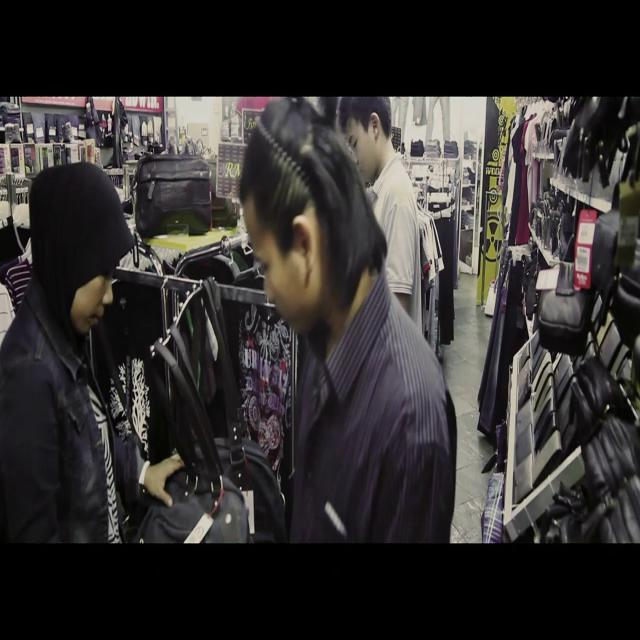normal: (250, 93, 427, 552), (0, 135, 165, 547), (364, 95, 444, 268)
